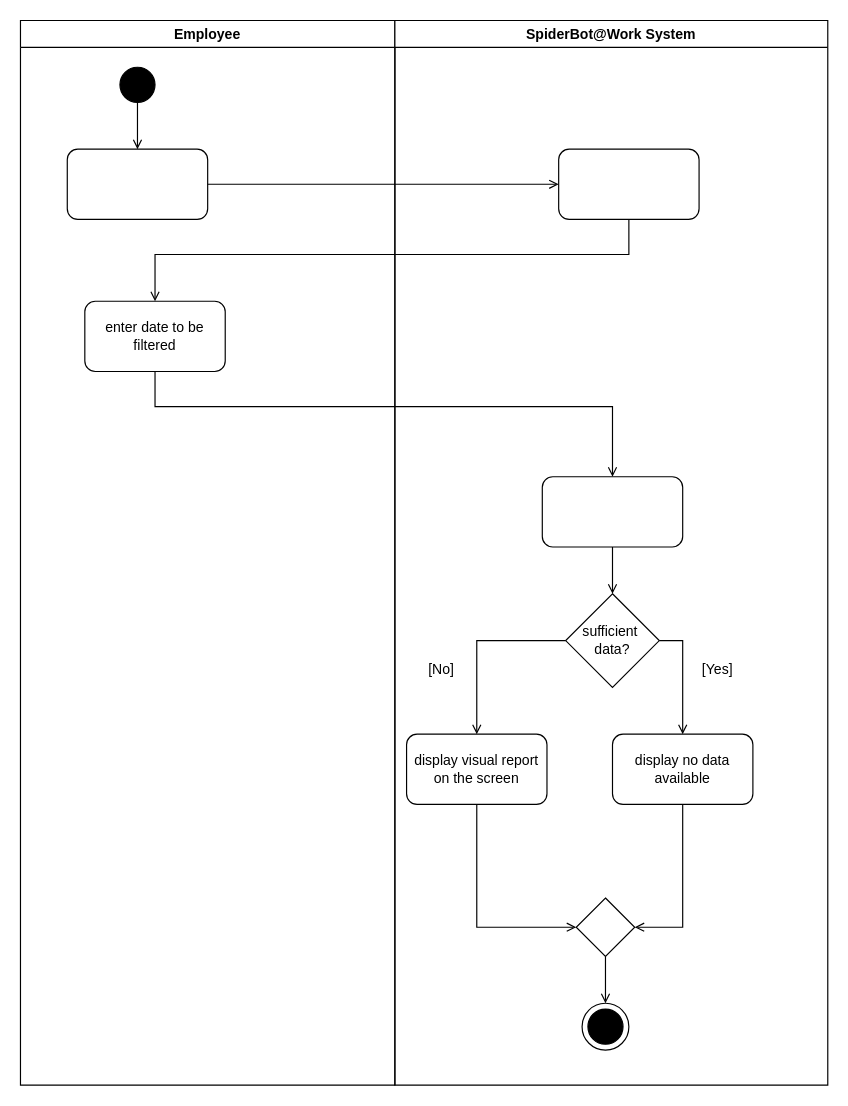
Some shapes in this 848 by 1106 pixel diagram are drawn without their labels. Here are the shapes that lost their labels. From the top down, the centre of each, then its label:
point (137, 183): selects "My Wellbeing Report" from the menu
point (628, 183): fetch historical survey data for the current employee
point (612, 511): generate charts (line graphs, pie) showing mood trends
